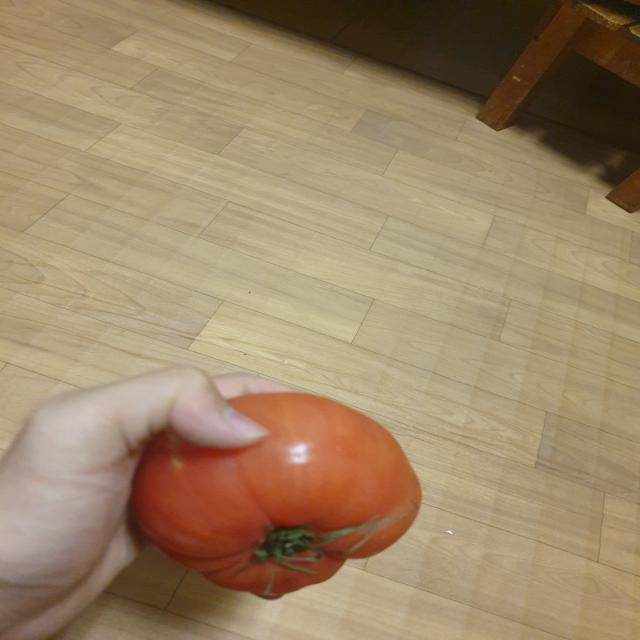tomato: (126, 394, 423, 601)
